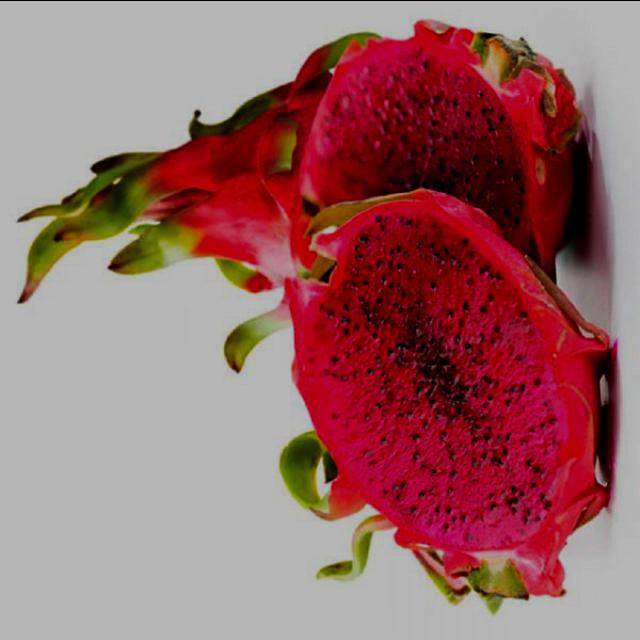do: (259, 178, 623, 612), (16, 54, 338, 322), (287, 24, 581, 240)
